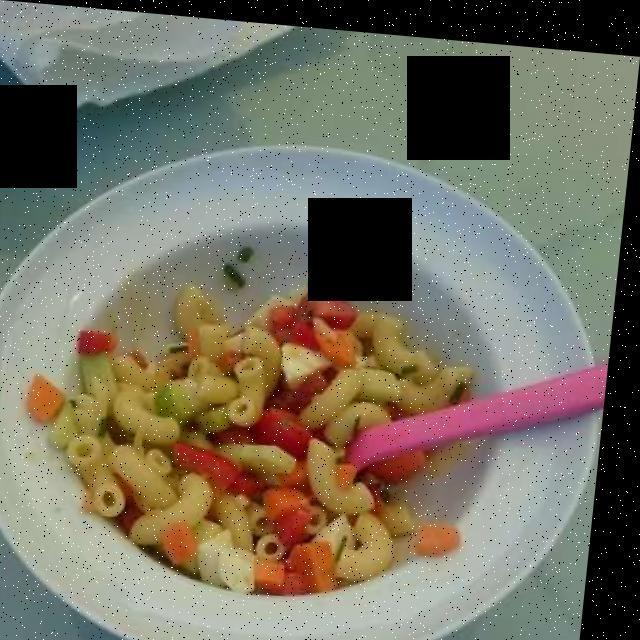cheese: (208, 336, 341, 591)
pasta: (50, 284, 478, 584)
vegetables: (151, 276, 375, 582)
